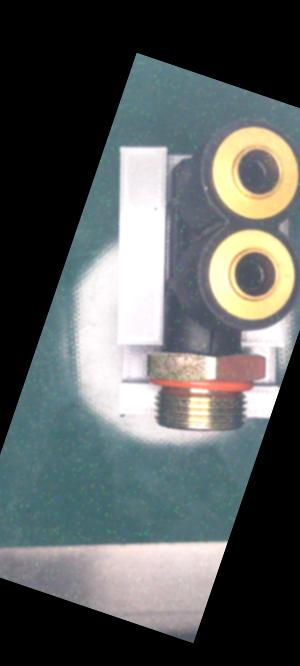craze: (201, 326, 220, 356)
